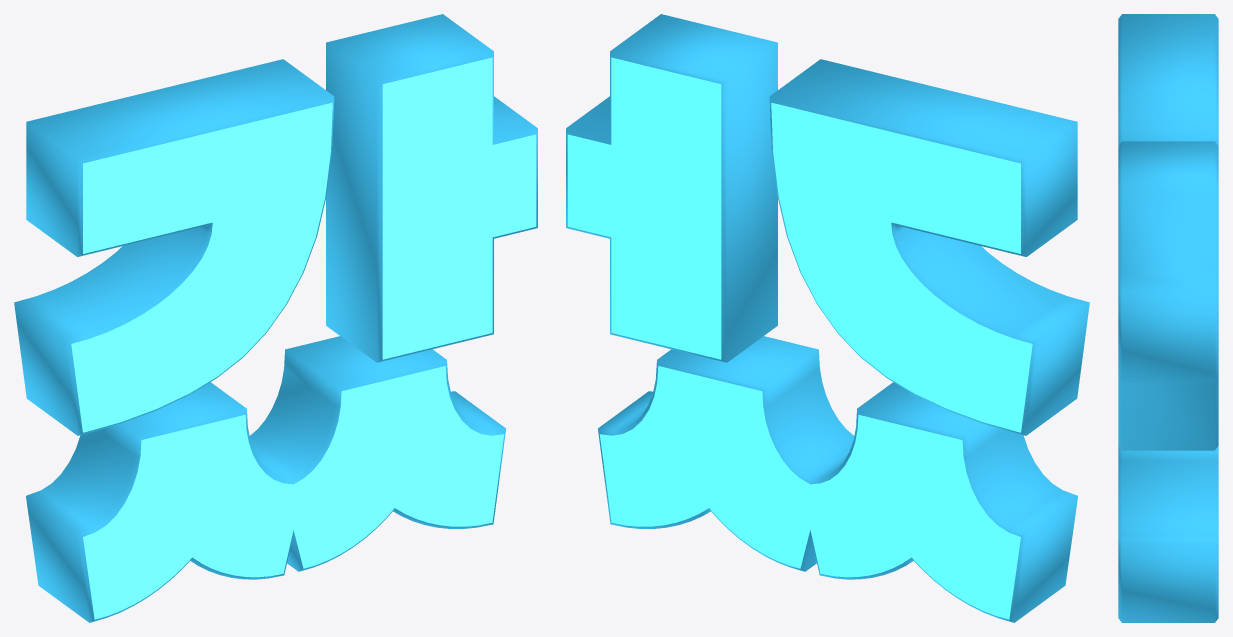
3 renders of one model, left to right at view 1: azimuth 30°, elevation 25°; view 2: azimuth 150°, elevation 25°; view 3: azimuth 270°, elevation 25°, orthographic. The views are drawn at different scales.
Visible parts, largest first — view 1: glyph; view 2: glyph; view 3: glyph.
Boxes of the visible parts, box(x1,y1,x2,y2) form: glyph: box(14, 14, 537, 622); glyph: box(566, 14, 1089, 622); glyph: box(1118, 14, 1218, 622).
Bounding box in the file's own units: 0.0802 × 0.0766 × 0.0162.
